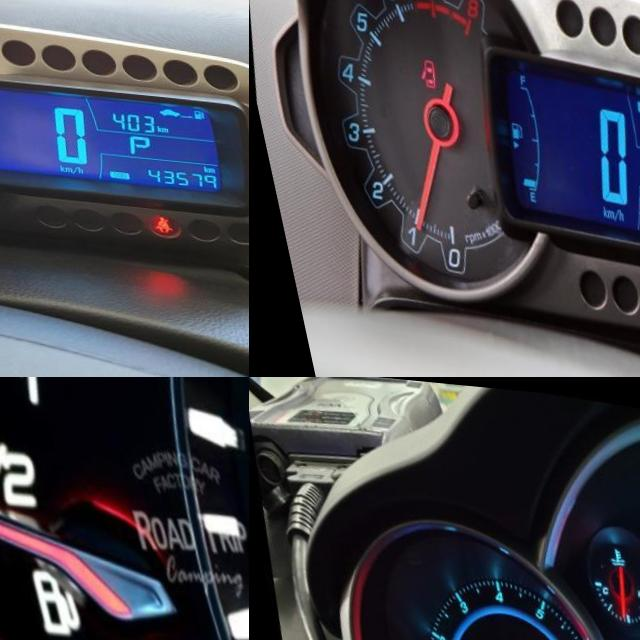Doors: (404, 52, 427, 85)
